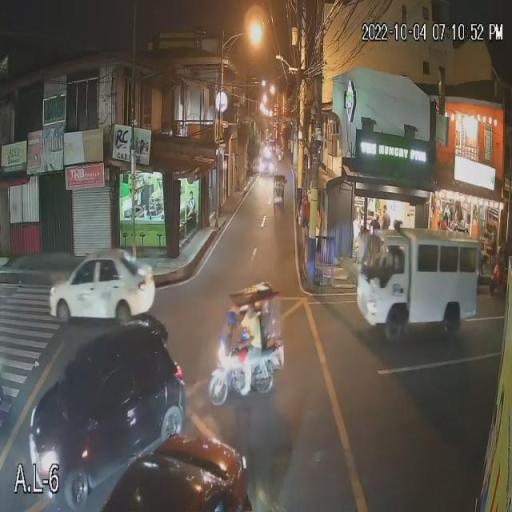motorcycle: (488, 262, 509, 292)
